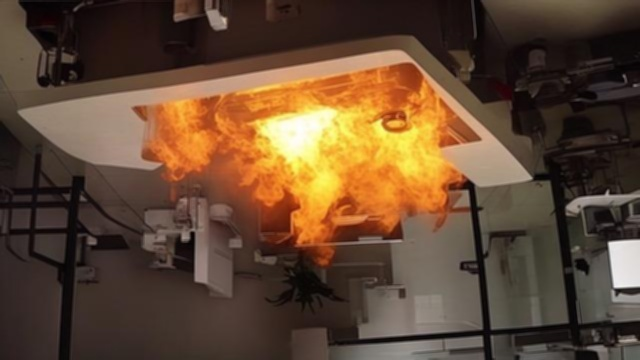fire: (147, 56, 472, 260)
